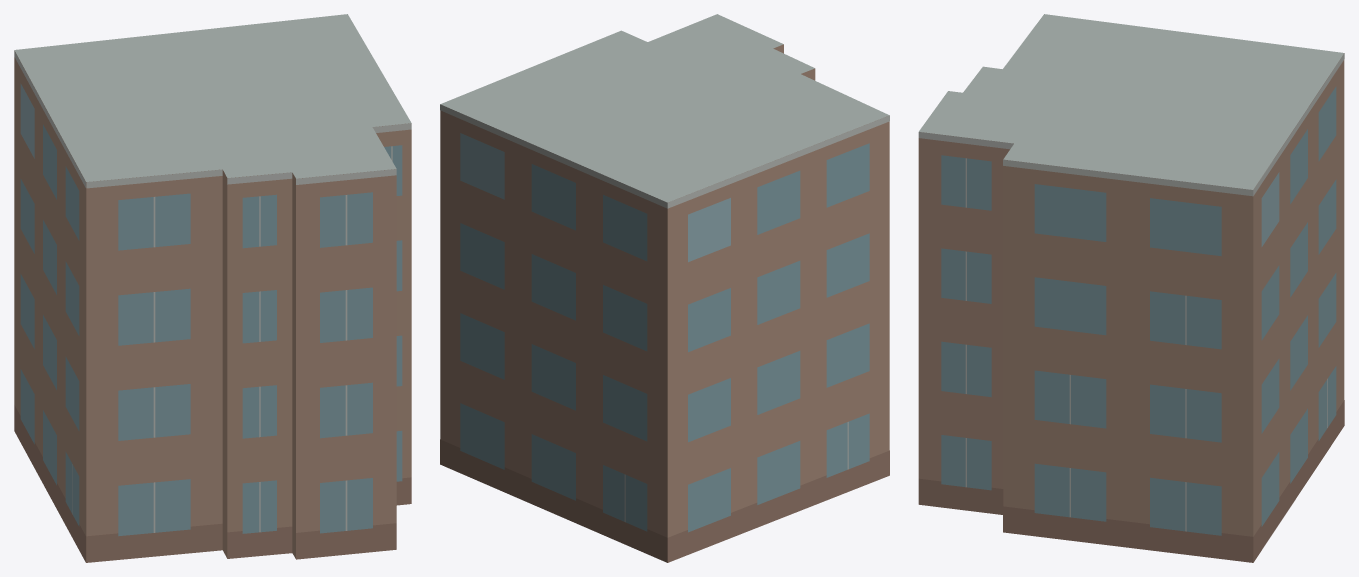
The model's file is survey-upis-32824955.glb.
The picture shows the model from 3 angles, left to right: view 1: azimuth 30°, elevation 25°; view 2: azimuth 150°, elevation 25°; view 3: azimuth 270°, elevation 25°; orthographic projection. The views are drawn at different scales.
Visible parts, largest first — view 1: survey-upis-32824955.tmp; view 2: survey-upis-32824955.tmp; view 3: survey-upis-32824955.tmp.
Boxes of the visible parts, x1,y1,x2,y2 form: survey-upis-32824955.tmp: (14, 14, 411, 562); survey-upis-32824955.tmp: (440, 14, 889, 562); survey-upis-32824955.tmp: (918, 14, 1344, 562).
Bounding box in the file's own units: 14.69 × 14.5 × 15.02.
